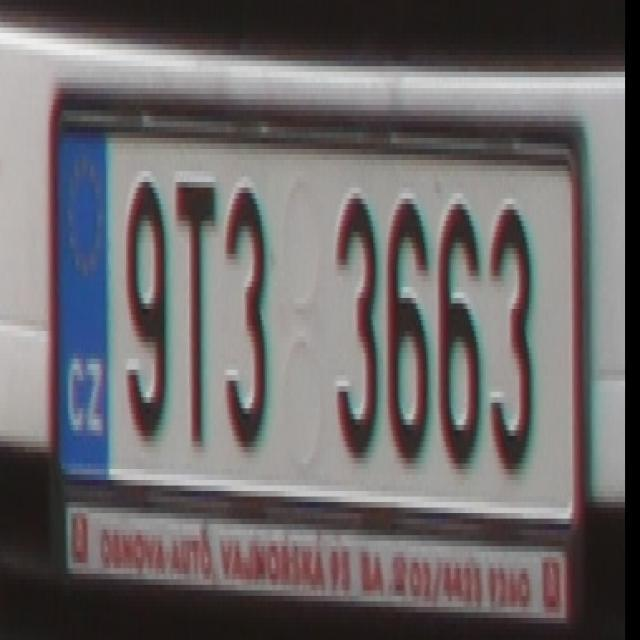3: (333, 182, 378, 452), (489, 198, 534, 464), (222, 176, 264, 442)
6: (438, 193, 481, 458), (384, 193, 426, 458)
9: (122, 165, 166, 436)
T: (172, 165, 214, 436)
